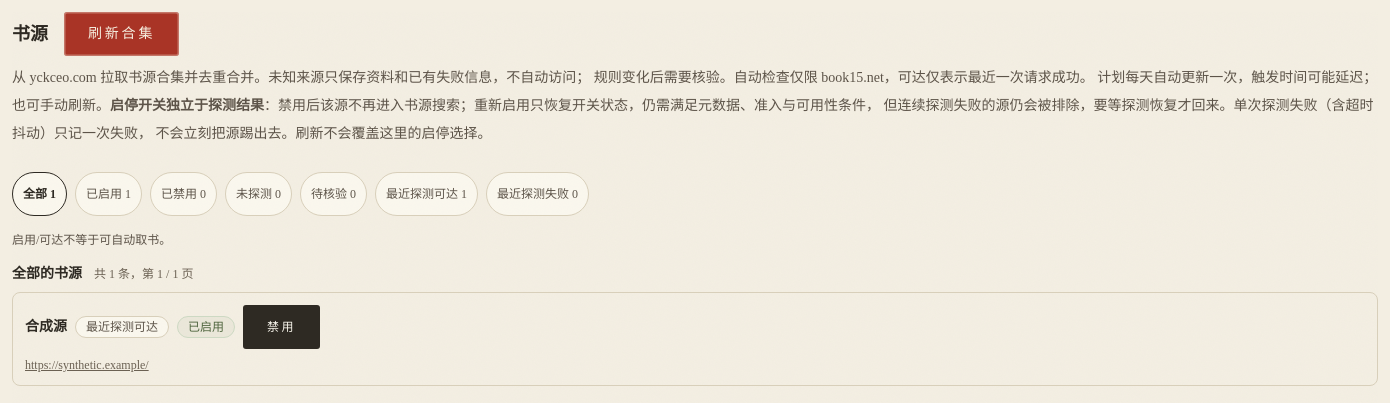
refresh 会话边界 › 同会话切筛选后，旧操作收尾仍解除按钮忙碌且不重载旧筛选
The image size is (1390, 403).
Expected: the text "合成源" is shown, [25,317,67,337]
Click the button "刷新合集": (122, 34) [64,12,179,56]
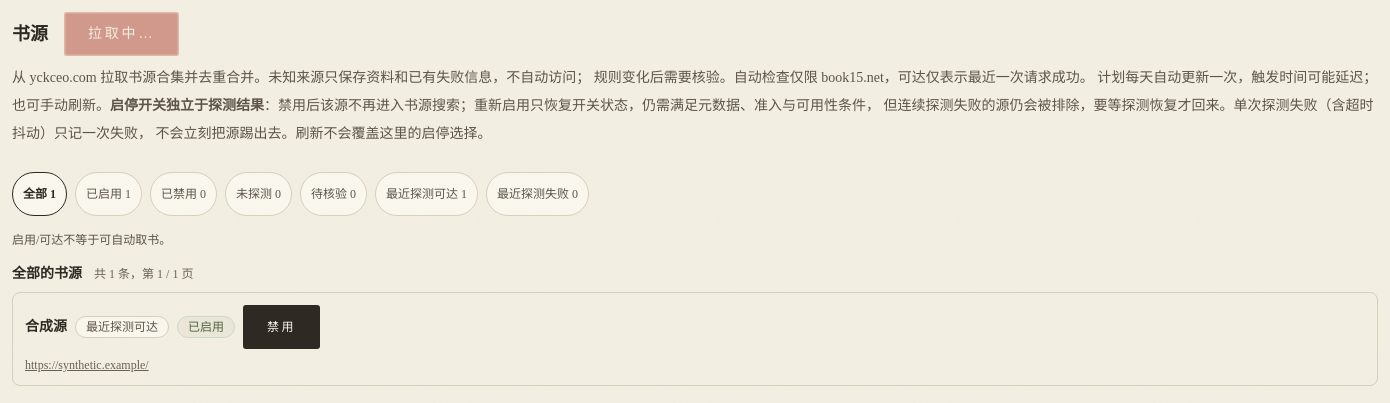
Click the button "最近探测可达 1": (427, 194) [375,172,478,216]
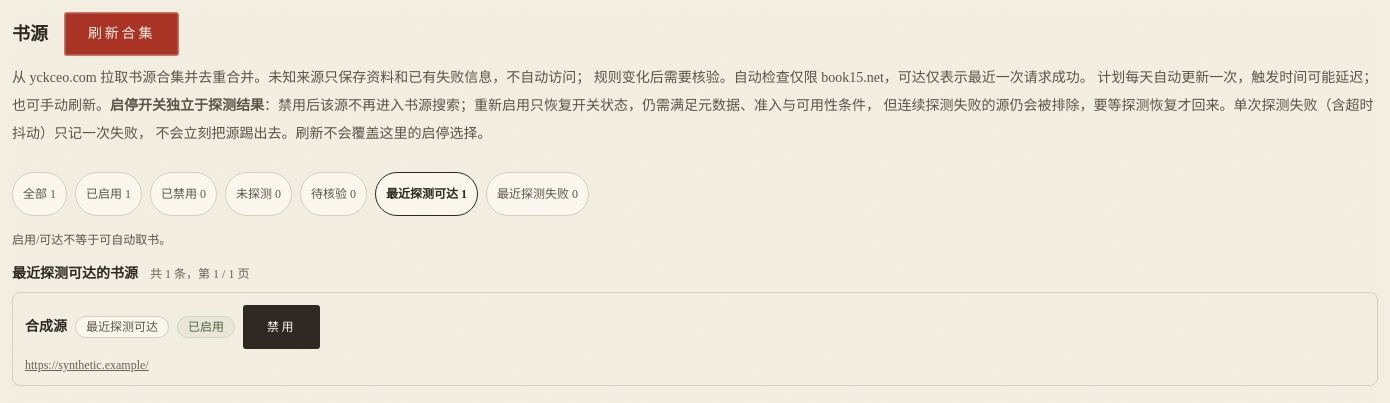
Expected: the button "刷新合集" is enabled, [64,12,179,56]
